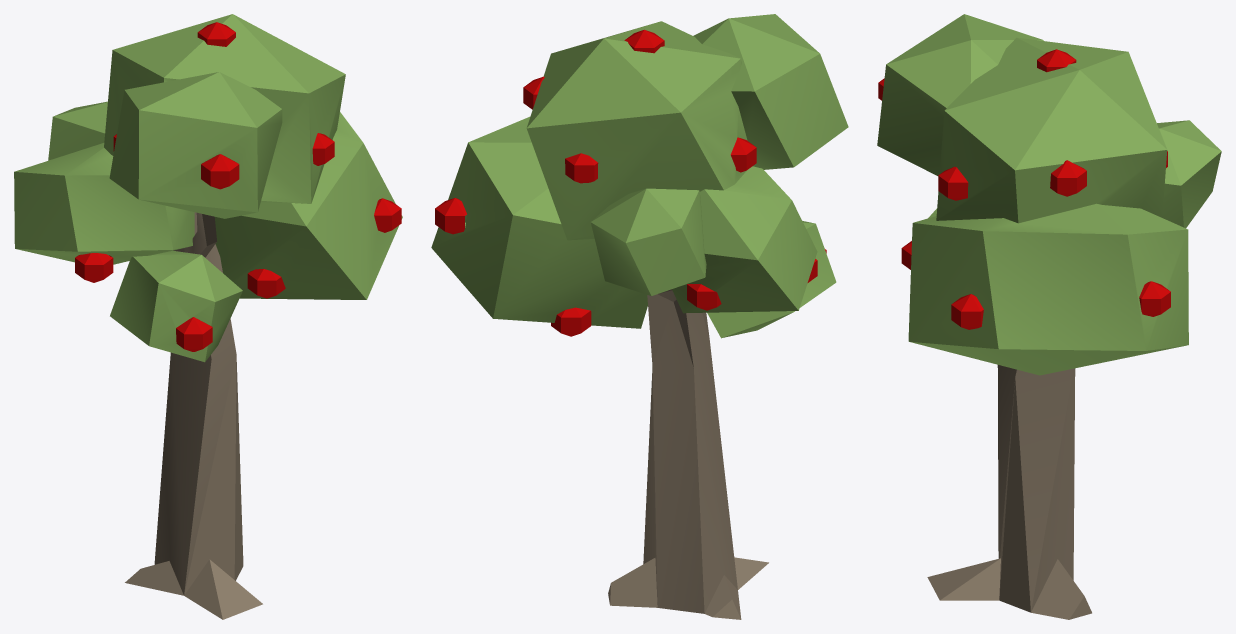
The model's file is Tree_Apple_03.fbx.
The picture shows the model from 3 angles, left to right: view 1: azimuth 30°, elevation 25°; view 2: azimuth 150°, elevation 25°; view 3: azimuth 270°, elevation 25°; orthographic projection. The views are drawn at different scales.
Parts seen in each view (by area): view 1: Model; view 2: Model; view 3: Model.
Part boxes in pixels (x1,y1,x2,y2): Model: [14, 14, 402, 619]; Model: [431, 14, 848, 619]; Model: [877, 14, 1221, 619].
Bounding box in the file's own units: 888 × 1369 × 768.
